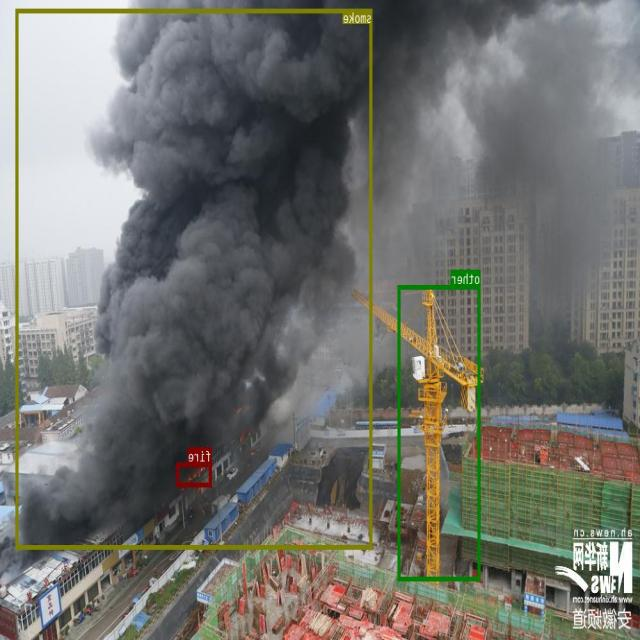fire: (177, 461, 212, 486)
other: (398, 284, 481, 580)
smoke: (16, 8, 373, 548)
